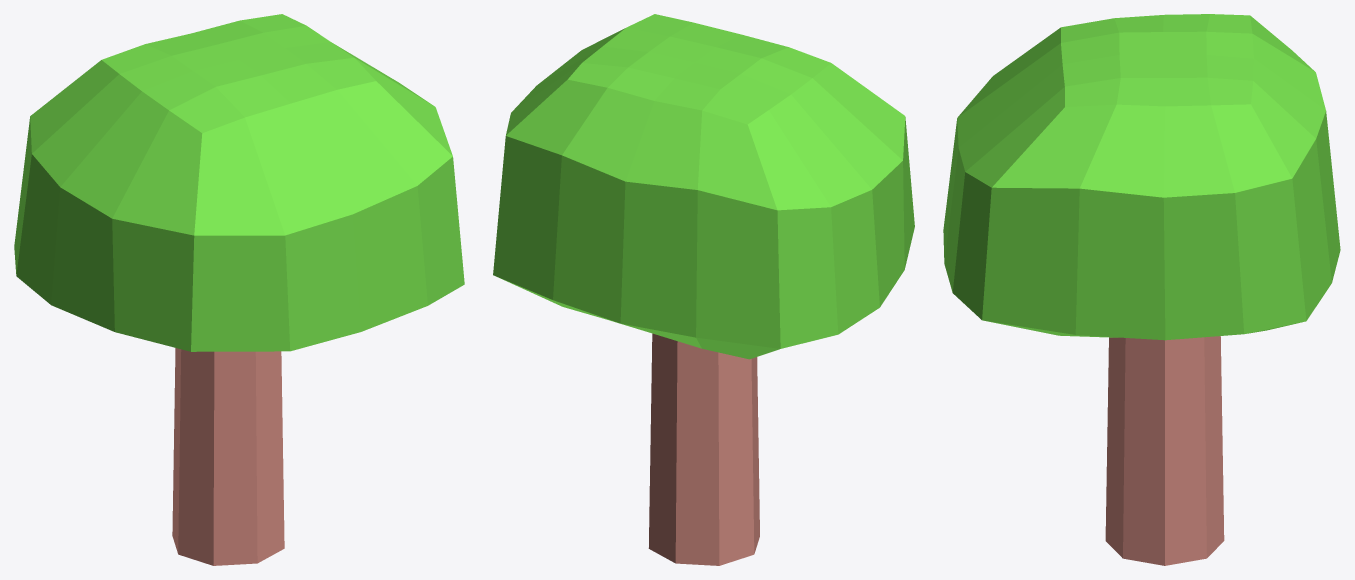
Rendered from Tree3.fbx.
3 renders of one model, left to right at view 1: azimuth 30°, elevation 25°; view 2: azimuth 150°, elevation 25°; view 3: azimuth 270°, elevation 25°, orthographic. The views are drawn at different scales.
Visible parts, largest first — view 1: Cube; view 2: Cube; view 3: Cube.
Part boxes in pixels (<box>): Cube: <box>14,14,464,565</box>; Cube: <box>493,14,914,565</box>; Cube: <box>943,14,1340,565</box>.
Bounding box in the file's own units: 3.44 × 4.47 × 3.28.
